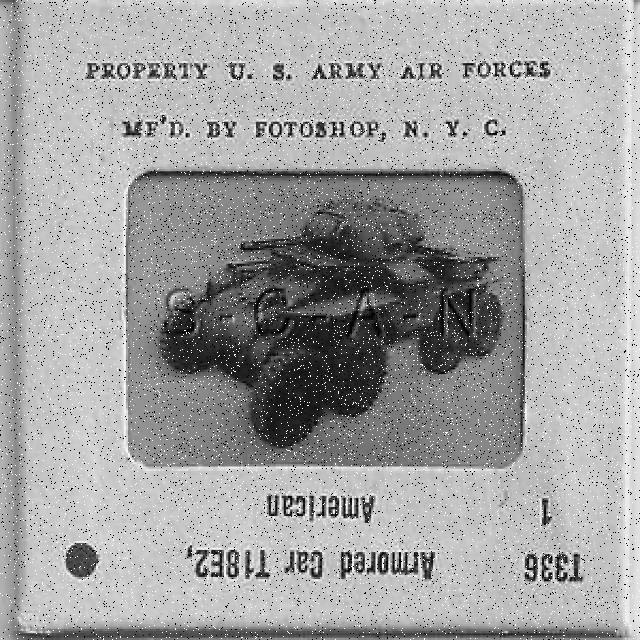MIL_MBT: (145, 188, 512, 461)
